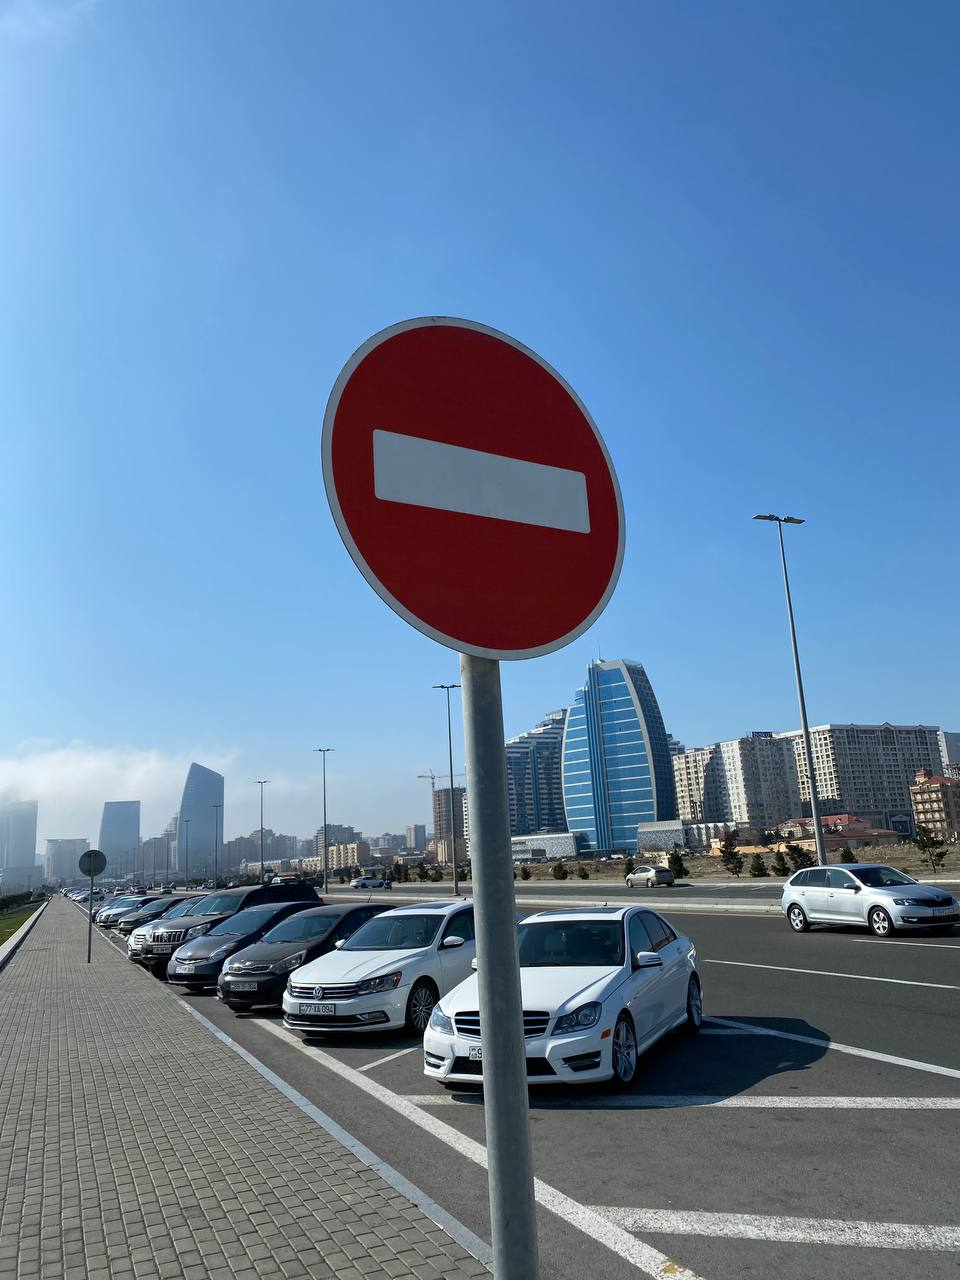No Entry: (316, 315, 629, 661)
